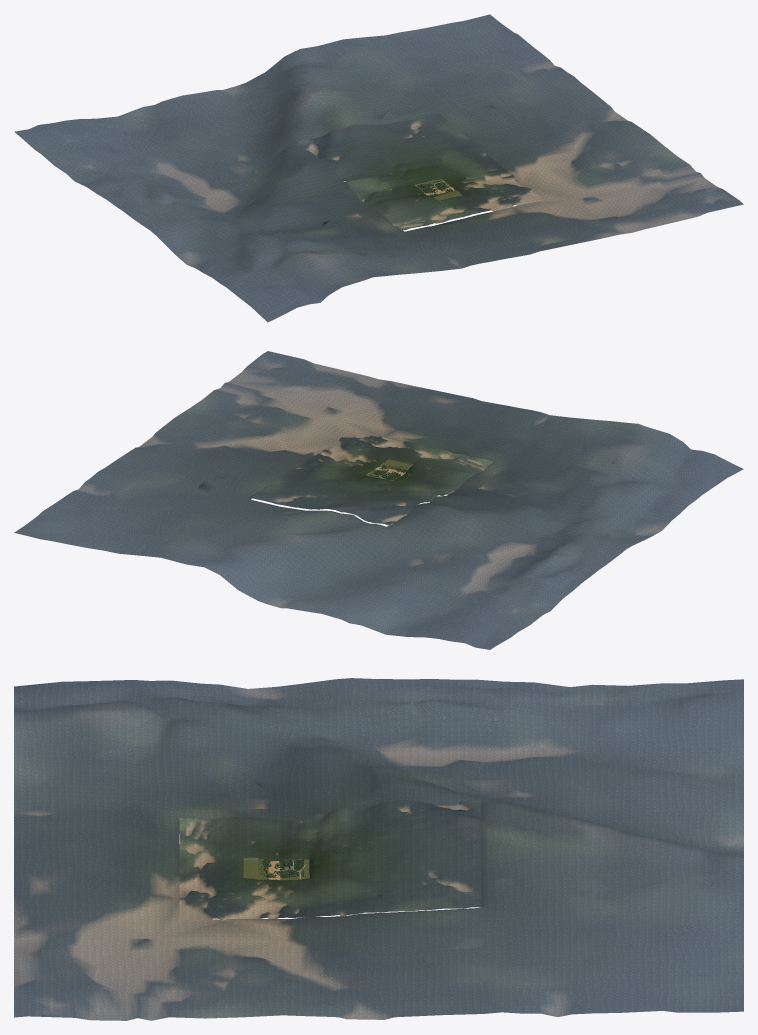
Rendered from h_mobile.glb.
The picture shows the model from 3 angles, top to bottom: view 1: azimuth 30°, elevation 25°; view 2: azimuth 150°, elevation 25°; view 3: azimuth 270°, elevation 25°; orthographic projection. The views are drawn at different scales.
Visible parts, largest first — view 1: maasto_tausta_2, maasto_tausta_1; view 2: maasto_tausta_2, maasto_tausta_1; view 3: maasto_tausta_2, maasto_tausta_1, maasto.
Part boxes in pixels (x1=…): maasto_tausta_2: x1=14, y1=14, x2=743, y2=322; maasto_tausta_1: x1=298, y1=113, x2=543, y2=230; maasto_tausta_2: x1=14, y1=351, x2=743, y2=649; maasto_tausta_1: x1=249, y1=430, x2=493, y2=525; maasto_tausta_2: x1=14, y1=678, x2=743, y2=1020; maasto_tausta_1: x1=179, y1=800, x2=480, y2=920; maasto: x1=243, y1=859, x2=309, y2=880.
Size of the model in its own units: 4201 by 223 by 3881.
70 materials, 1 textured.
